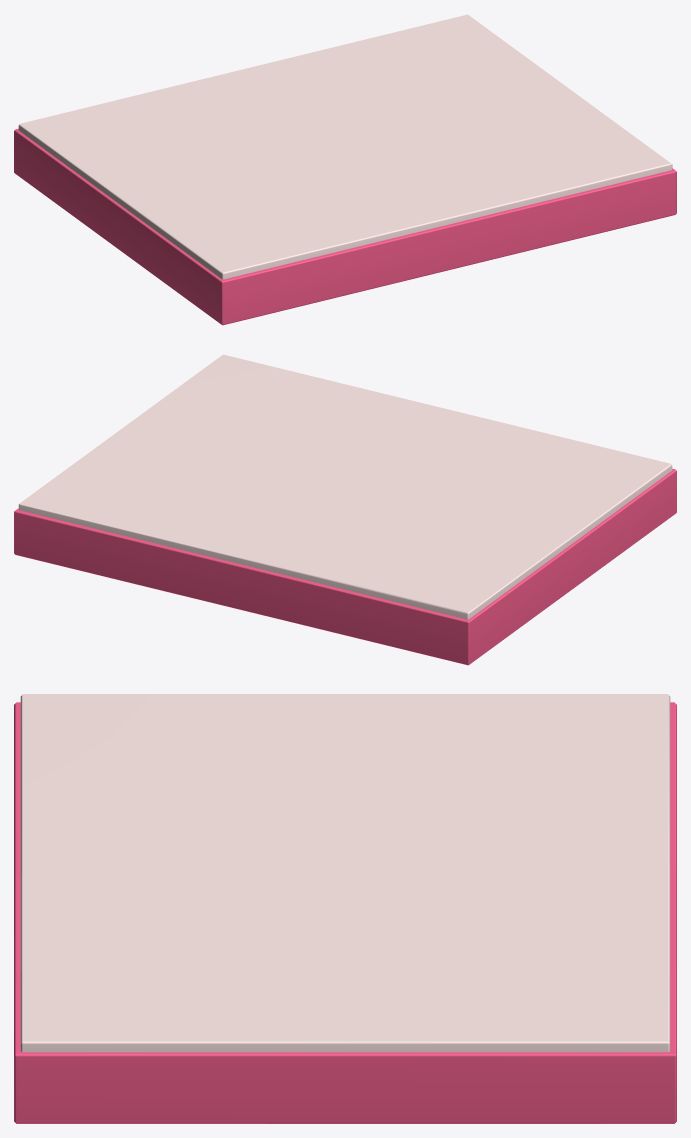
The model's file is Store_14_Base_1.glb.
3 views of the same model, one above another, from view 1: azimuth 30°, elevation 25°; view 2: azimuth 150°, elevation 25°; view 3: azimuth 270°, elevation 25° (orthographic). The views are drawn at different scales.
Parts seen in each view (by area): view 1: Store_14_Base_1; view 2: Store_14_Base_1; view 3: Store_14_Base_1.
Part boxes in pixels (bbox=[...]): Store_14_Base_1: bbox=[14, 14, 676, 325]; Store_14_Base_1: bbox=[14, 354, 676, 665]; Store_14_Base_1: bbox=[14, 694, 676, 1123].
Size of the model in its own units: 15.07 by 1.61 by 11.95.
Materials: 1 (1 with a texture image).
